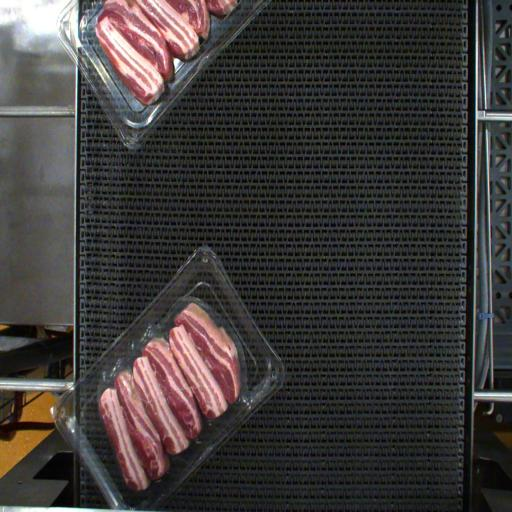unsealed: (81, 292, 271, 490)
